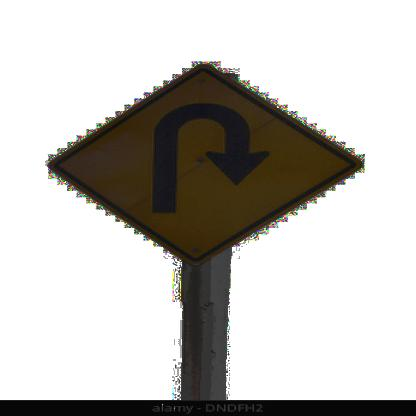U-turn: (47, 54, 364, 265)
